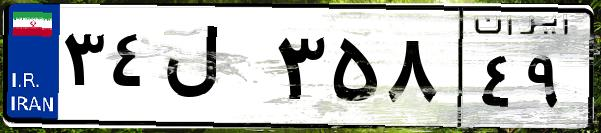3: (270, 28, 330, 110), (57, 26, 110, 100)
4: (475, 38, 525, 113), (110, 28, 158, 98)
5: (330, 28, 385, 110)
8: (385, 28, 445, 110)
9: (525, 38, 570, 115)
ل: (158, 20, 270, 120)
